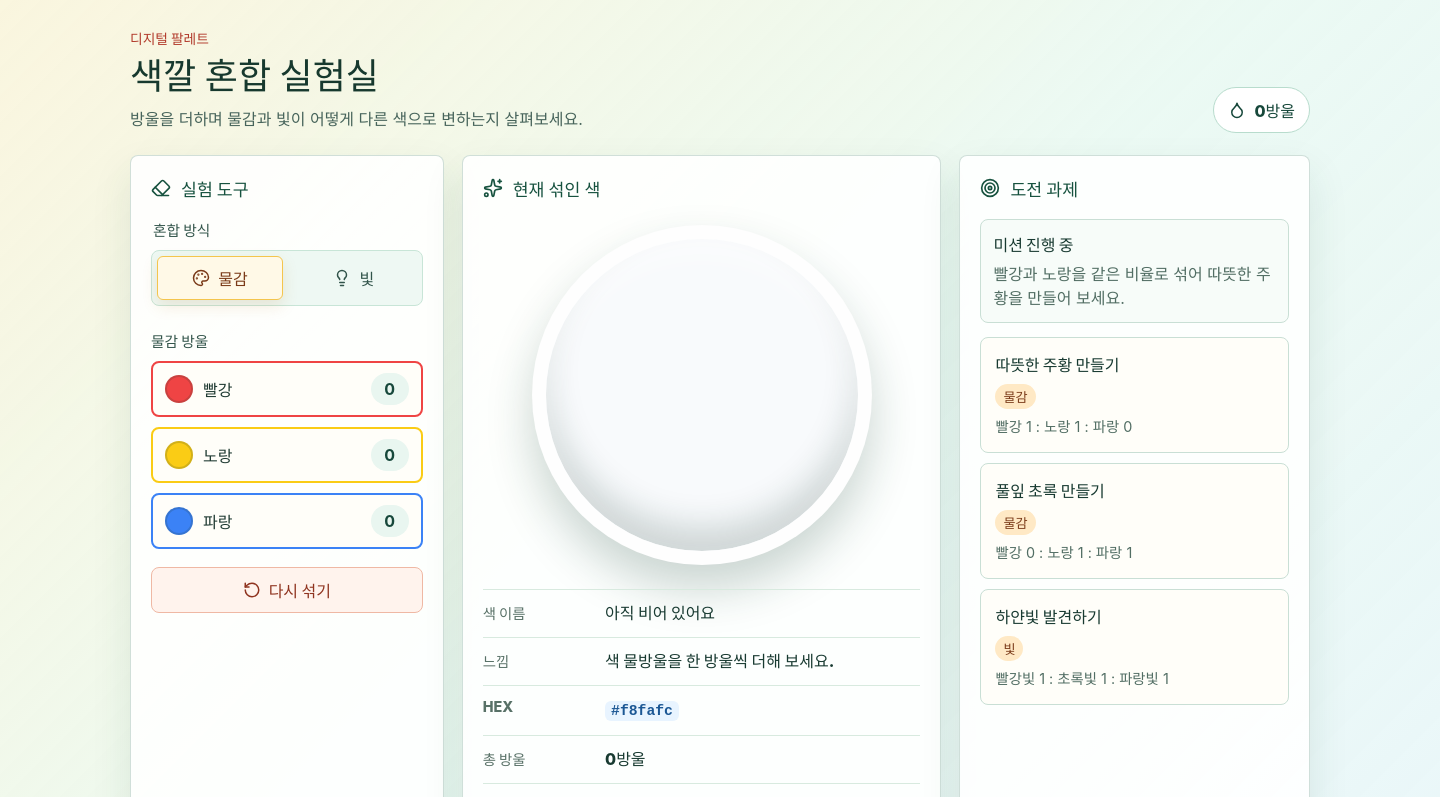
Test case: App › shows mission feedback when the current mix matches the selected mission
The width and height of the screenshot is (1440, 797).
Click the button "따뜻한 주황 만들기 물감 빨강 1 : 노랑 1 : 파랑 0" at (1057, 365), box x1=980 y1=337 x2=1289 y2=453
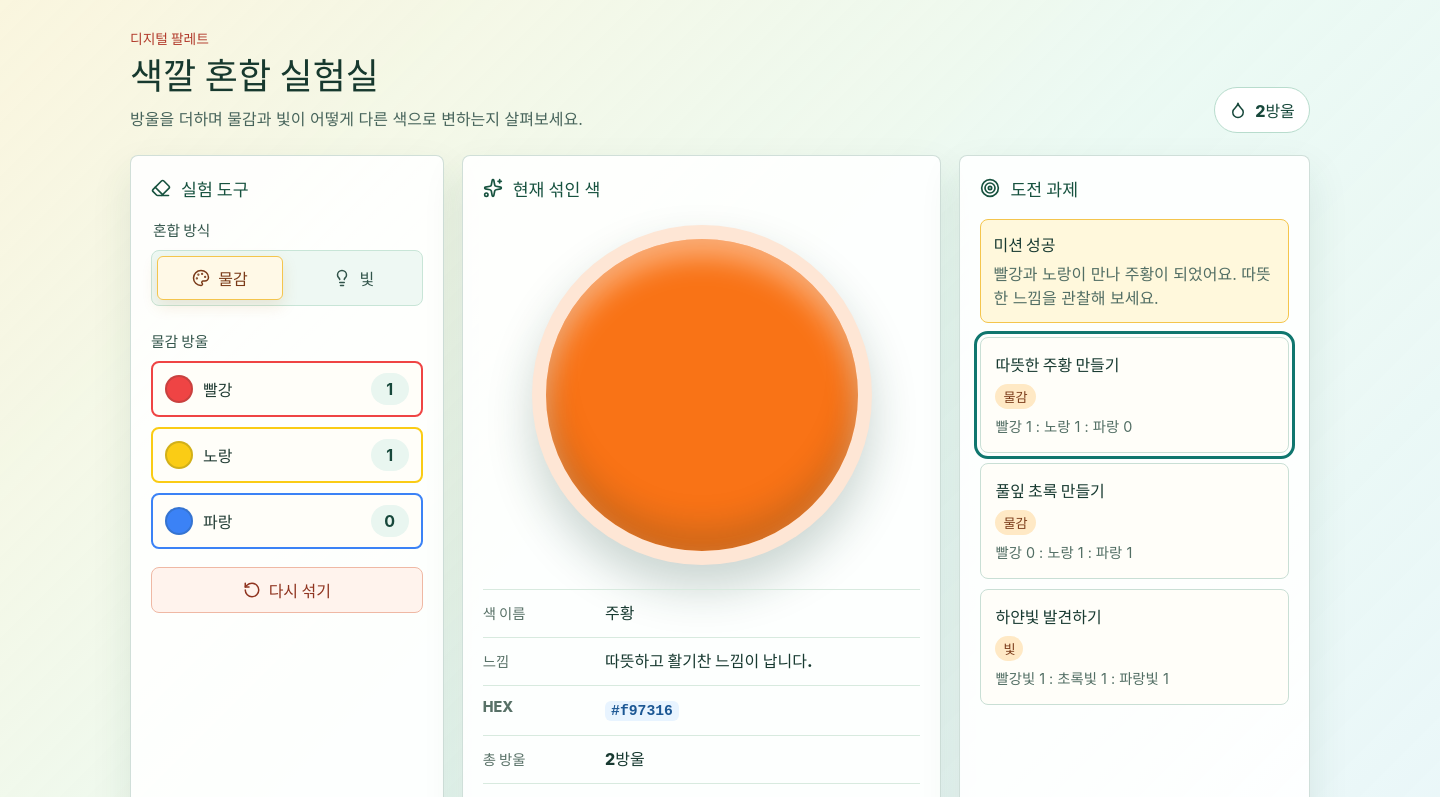
Expected: the text "미션 성공" is shown, x1=993 y1=235 x2=1056 y2=255
Expected: the text "빨강과 노랑이 만나 주황이 되었어요. 따뜻한 느낌을 관찰해 보세요." is shown, x1=993 y1=262 x2=1276 y2=310
